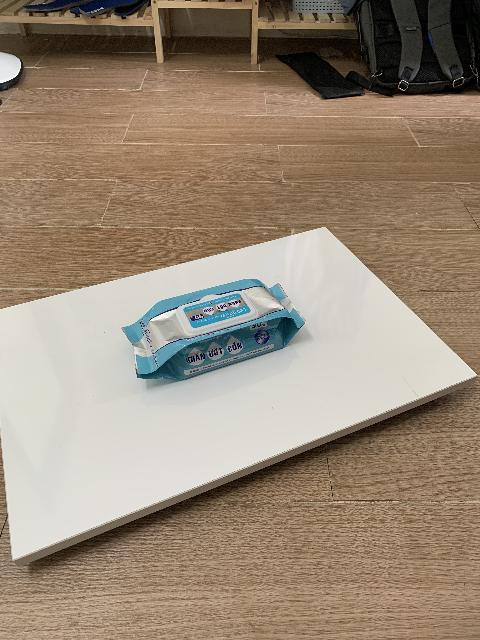Let-green_alcohol_wipes: (122, 279, 308, 381)
